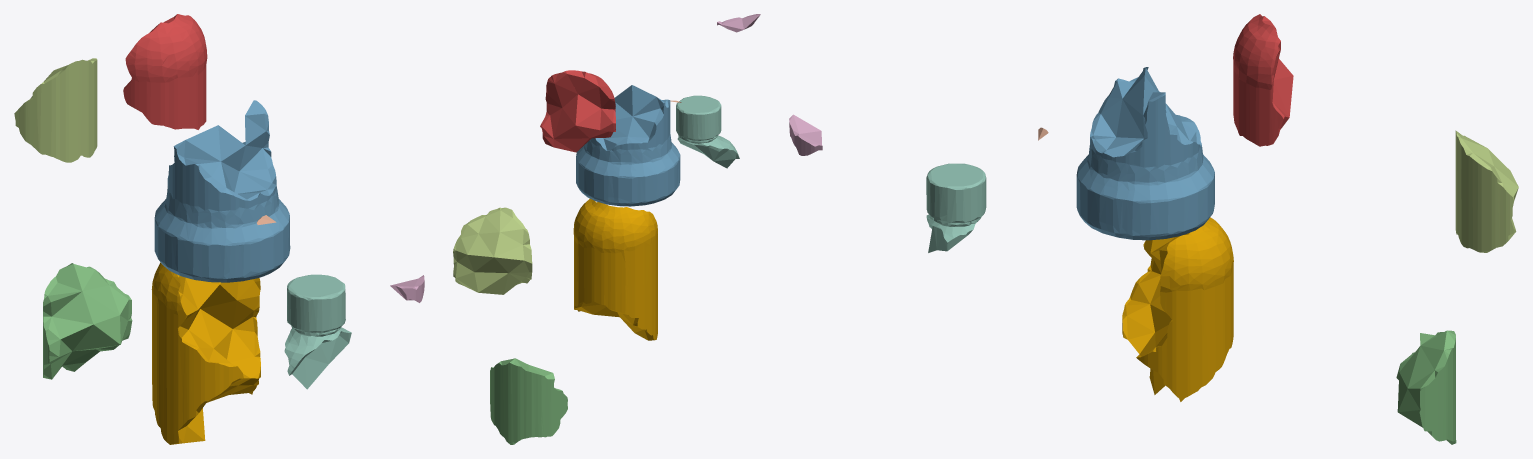
File: mode_9_8pcs_transformed.glb
The picture shows the model from 3 angles, left to right: view 1: azimuth 30°, elevation 25°; view 2: azimuth 150°, elevation 25°; view 3: azimuth 270°, elevation 25°; orthographic projection. The views are drawn at different scales.
Visible parts, largest first — view 1: piece_2.obj, piece_0.obj, piece_1.obj, piece_3.obj, piece_5.obj, piece_4.obj, piece_6.obj; view 2: piece_0.obj, piece_2.obj, piece_5.obj, piece_3.obj, piece_1.obj, piece_4.obj, piece_6.obj; view 3: piece_2.obj, piece_0.obj, piece_1.obj, piece_5.obj, piece_3.obj, piece_4.obj, piece_6.obj.
Part boxes in pixels (<box>): piece_2.obj: <box>154,100,290,282</box>; piece_0.obj: <box>151,262,260,444</box>; piece_1.obj: <box>123,14,207,129</box>; piece_3.obj: <box>43,263,132,379</box>; piece_5.obj: <box>14,58,97,162</box>; piece_4.obj: <box>284,274,351,389</box>; piece_6.obj: <box>390,275,424,302</box>; piece_0.obj: <box>573,199,657,340</box>; piece_2.obj: <box>576,85,680,206</box>; piece_5.obj: <box>453,207,532,294</box>; piece_3.obj: <box>490,358,567,444</box>; piece_1.obj: <box>540,70,615,152</box>; piece_4.obj: <box>676,95,739,168</box>; piece_6.obj: <box>717,14,760,32</box>; piece_2.obj: <box>1076,67,1214,240</box>; piece_0.obj: <box>1122,217,1233,401</box>; piece_1.obj: <box>1233,14,1293,146</box>; piece_5.obj: <box>1455,130,1518,252</box>; piece_3.obj: <box>1396,330,1456,444</box>; piece_4.obj: <box>926,163,986,252</box>; piece_6.obj: <box>789,114,822,155</box>.
Size of the model in its own units: 0.3732 by 1.27 by 1.97.
